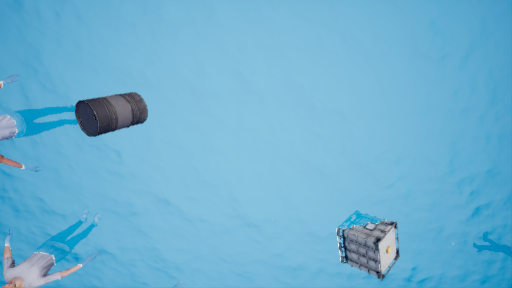person: (2, 205, 105, 288)
